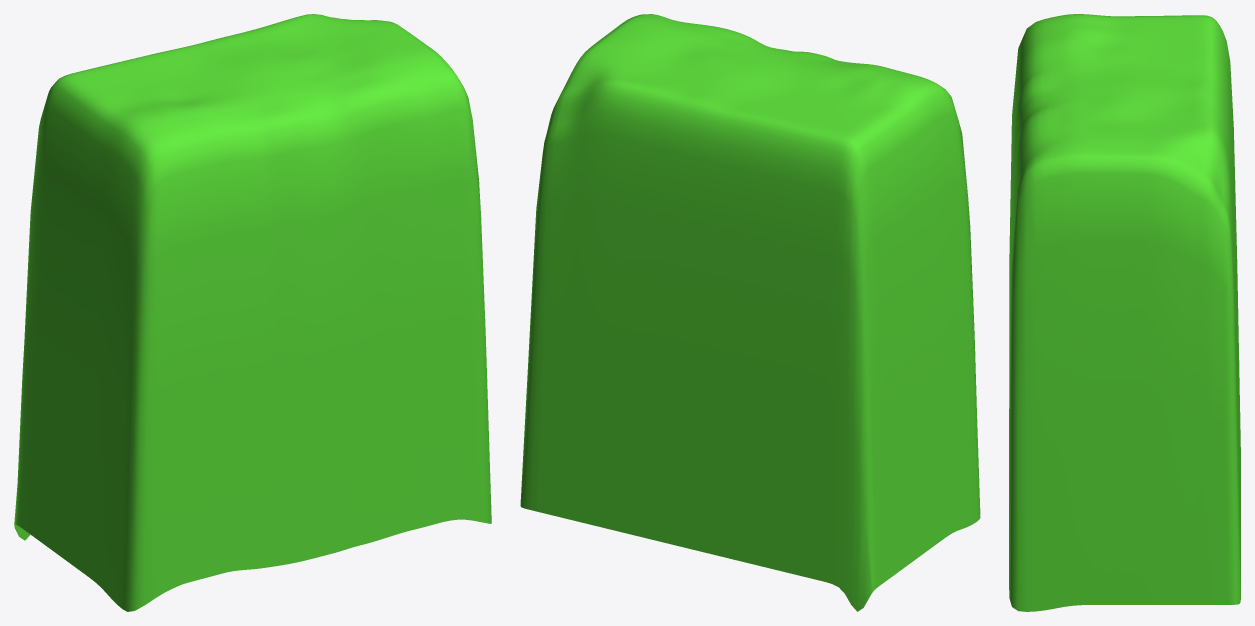
The model's file is RuinsGround.fbx.
The picture shows the model from 3 angles, left to right: view 1: azimuth 30°, elevation 25°; view 2: azimuth 150°, elevation 25°; view 3: azimuth 270°, elevation 25°; orthographic projection. The views are drawn at different scales.
Visible parts, largest first — view 1: RuinsGround; view 2: RuinsGround; view 3: RuinsGround.
Boxes of the visible parts, bbox=[...] form: RuinsGround: bbox=[14, 14, 491, 611]; RuinsGround: bbox=[520, 14, 980, 611]; RuinsGround: bbox=[1009, 14, 1240, 611].
Bounding box in the file's own units: 12709 × 15865 × 7228.
